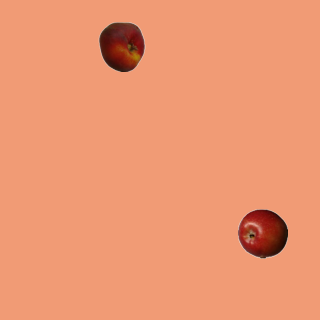Apple Braeburn: (237, 208, 287, 258)
Nectarine Flat: (96, 21, 146, 71)
